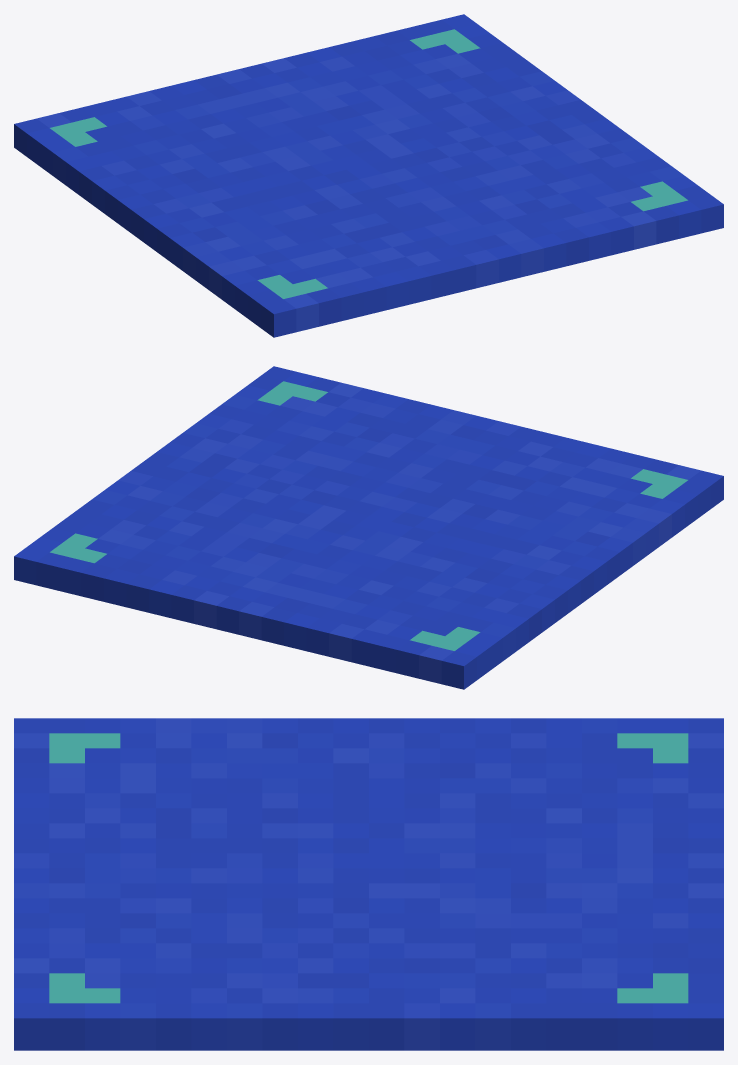
Rendered from floor.fbx.
The picture shows the model from 3 angles, top to bottom: view 1: azimuth 30°, elevation 25°; view 2: azimuth 150°, elevation 25°; view 3: azimuth 270°, elevation 25°; orthographic projection. The views are drawn at different scales.
Parts seen in each view (by area): view 1: Matrix; view 2: Matrix; view 3: Matrix.
Boxes of the visible parts, x1,y1,x2,y2 form: Matrix: [14, 14, 723, 337]; Matrix: [14, 366, 723, 689]; Matrix: [14, 718, 723, 1050].
Bounding box in the file's own units: 20 × 1 × 20.
Materials: 1 (1 with a texture image).
